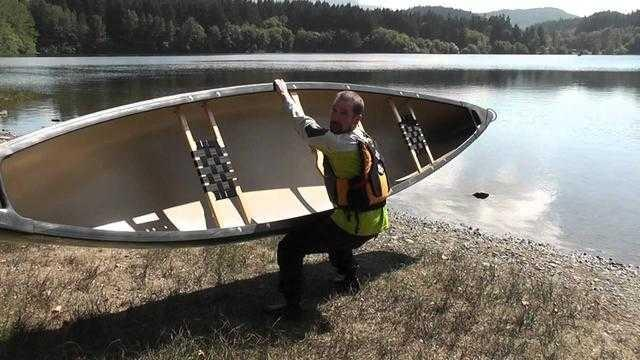kayak: (0, 78, 495, 244)
